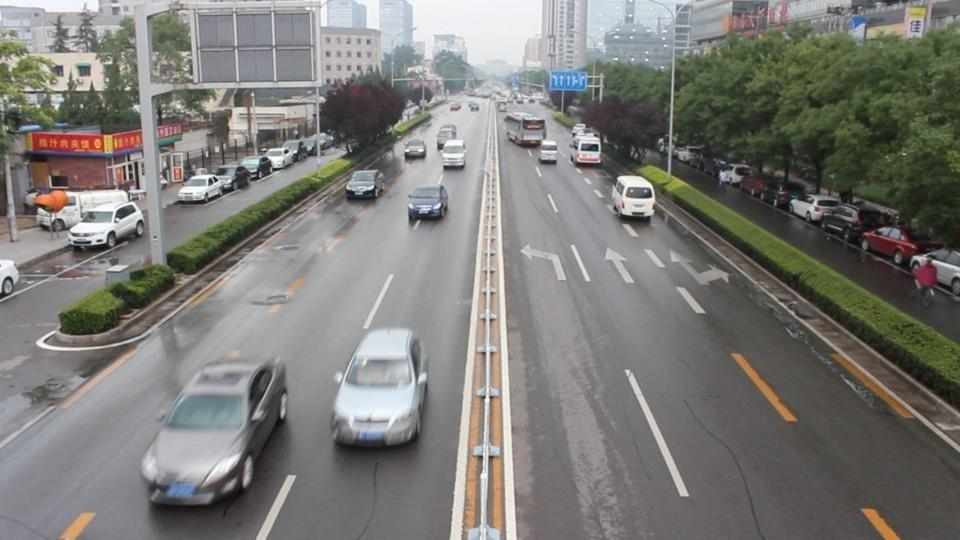car: (139, 357, 291, 508), (330, 326, 429, 448), (68, 202, 146, 250), (862, 225, 944, 267), (822, 203, 898, 247), (912, 250, 960, 303), (609, 175, 656, 220), (789, 193, 840, 225), (407, 184, 450, 221), (177, 175, 226, 204), (768, 179, 809, 212), (345, 170, 386, 200), (211, 164, 252, 191), (261, 146, 295, 170), (441, 140, 466, 170), (0, 259, 19, 298), (403, 137, 427, 161), (538, 140, 558, 165), (436, 123, 456, 145)
